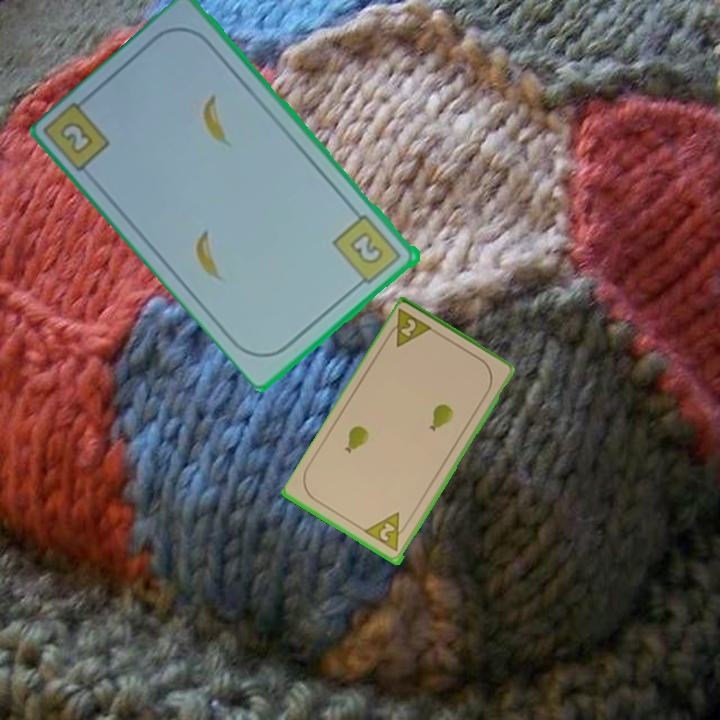2b: (330, 211, 405, 291), (59, 121, 93, 154)
2p: (362, 509, 412, 556), (397, 315, 419, 340)
